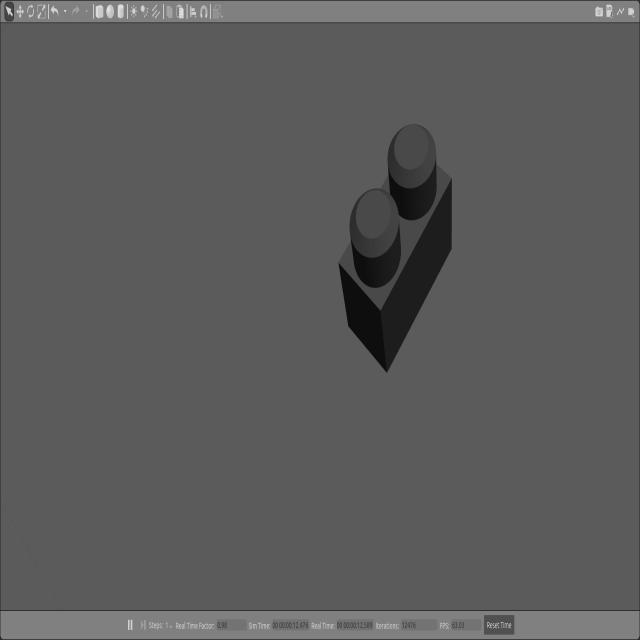block3: (339, 125, 452, 372)
